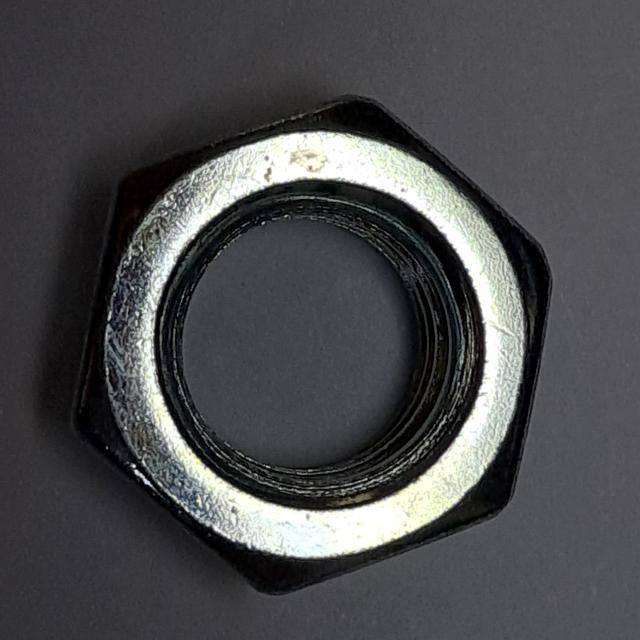Excellent: (53, 85, 561, 607)
